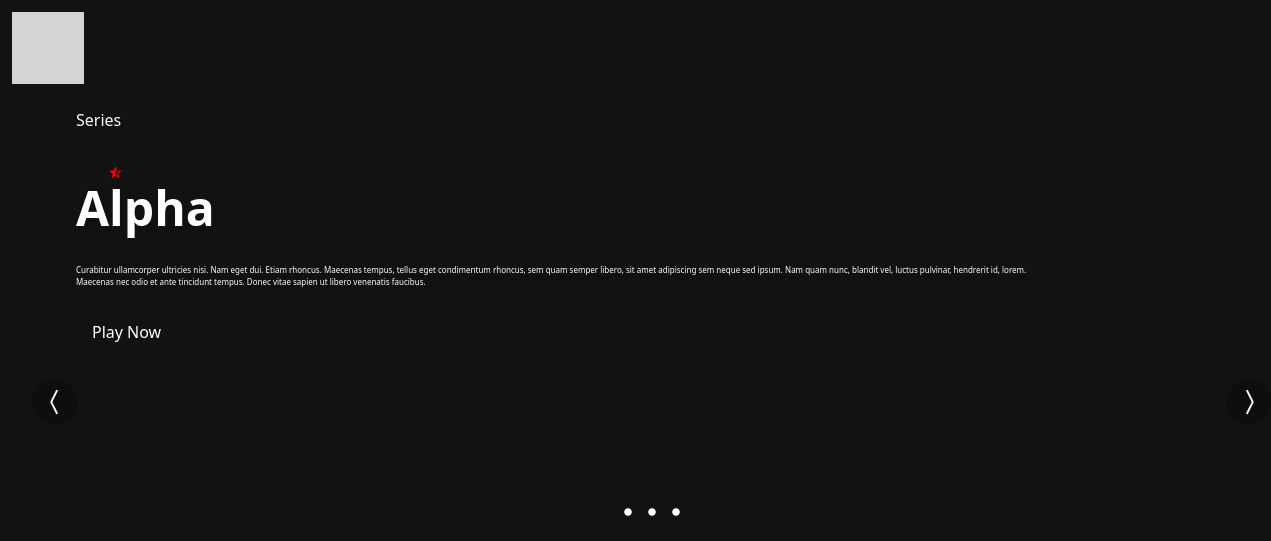
Test: clicking dots jumps to selected slide (goToSlide)
Expected: the element with class "justify-center" is shown, left=616, top=500, right=688, bottom=524
Note: Jump to index 2 (third slide)
Click the 3rd element with class "cursor-pointer" at (676,512), box left=664, top=500, right=688, bottom=524
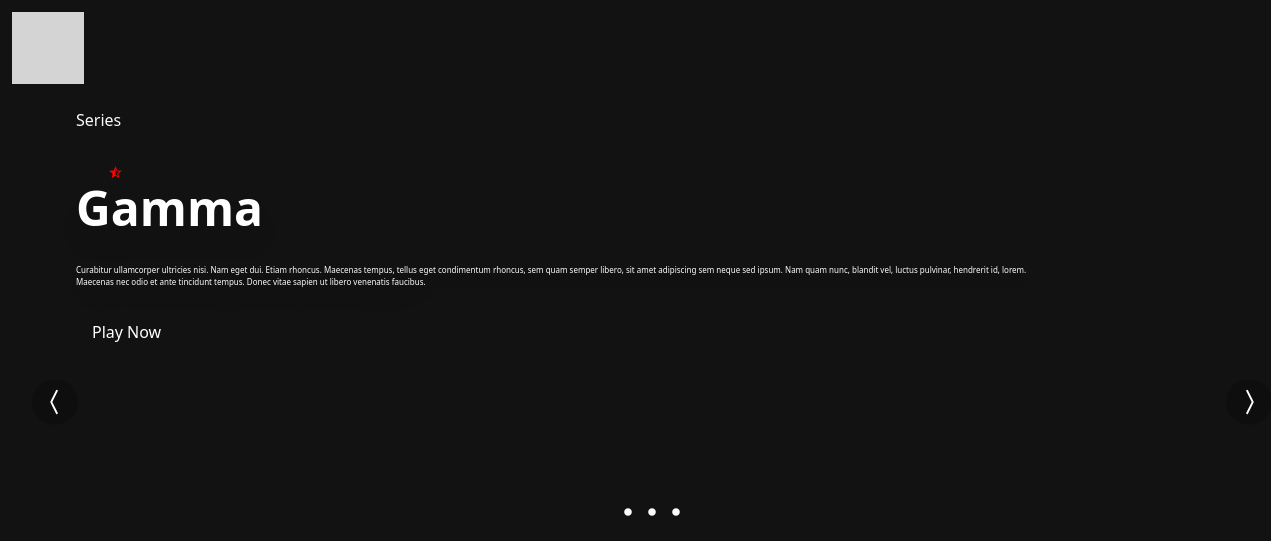
Expected: the text "Gamma" is shown, left=76, top=175, right=263, bottom=240
